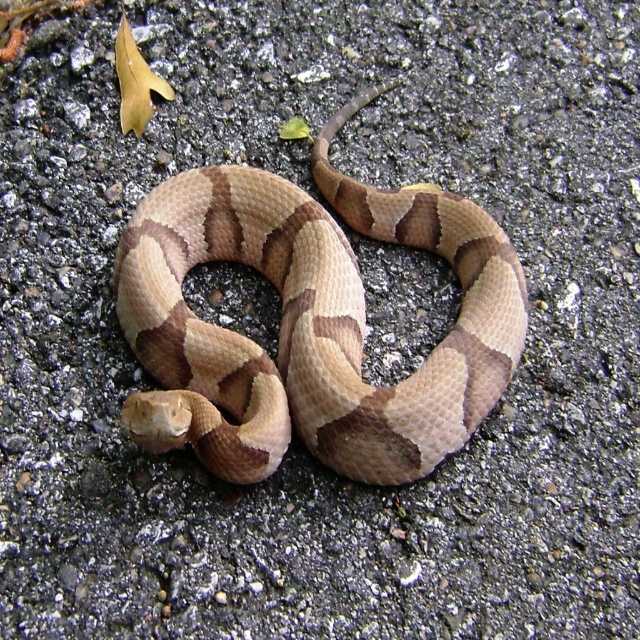Snake: (111, 79, 531, 487)
